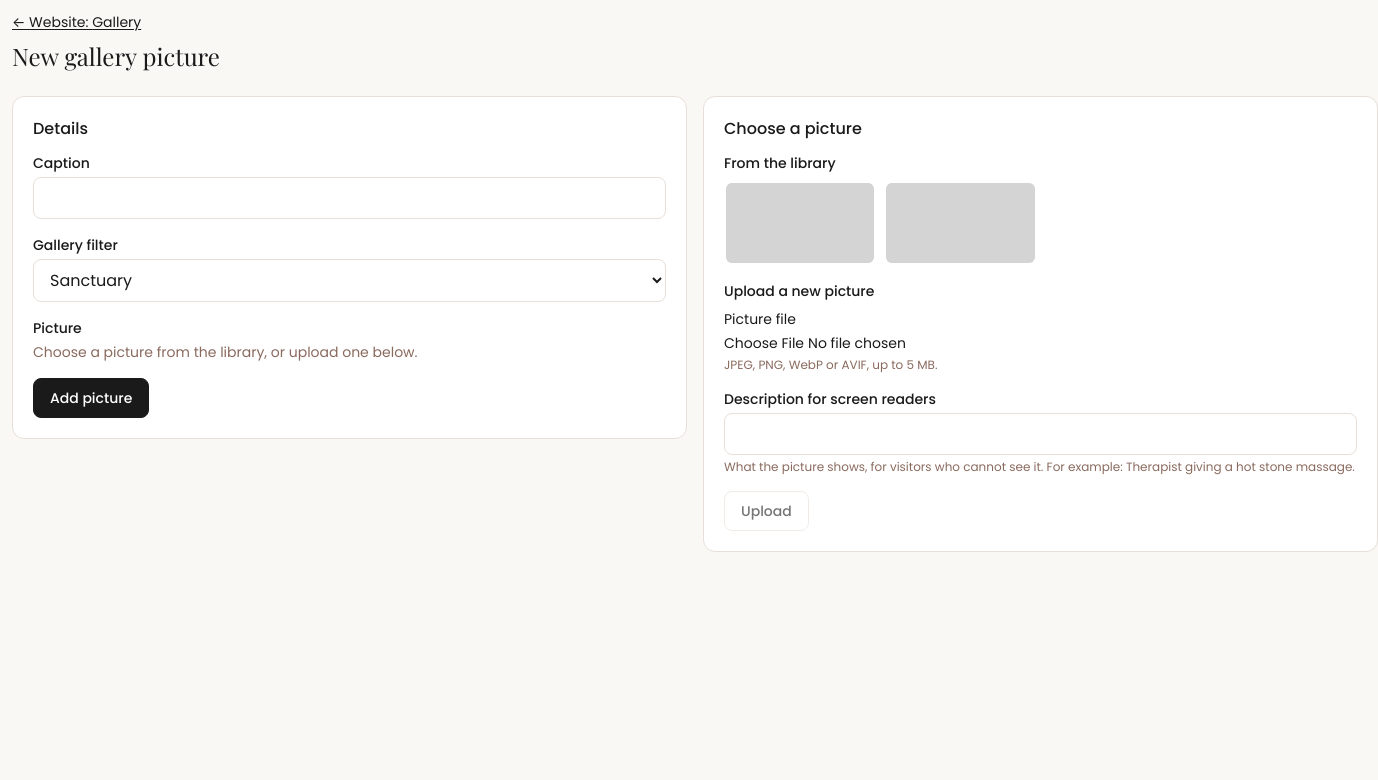
it: editors › gallery: a new item without a picture is not sent
The width and height of the screenshot is (1378, 780).
Type "New room" into the field labelled "Caption".
click(350, 198); type("New room")  # box [33,177,666,219]
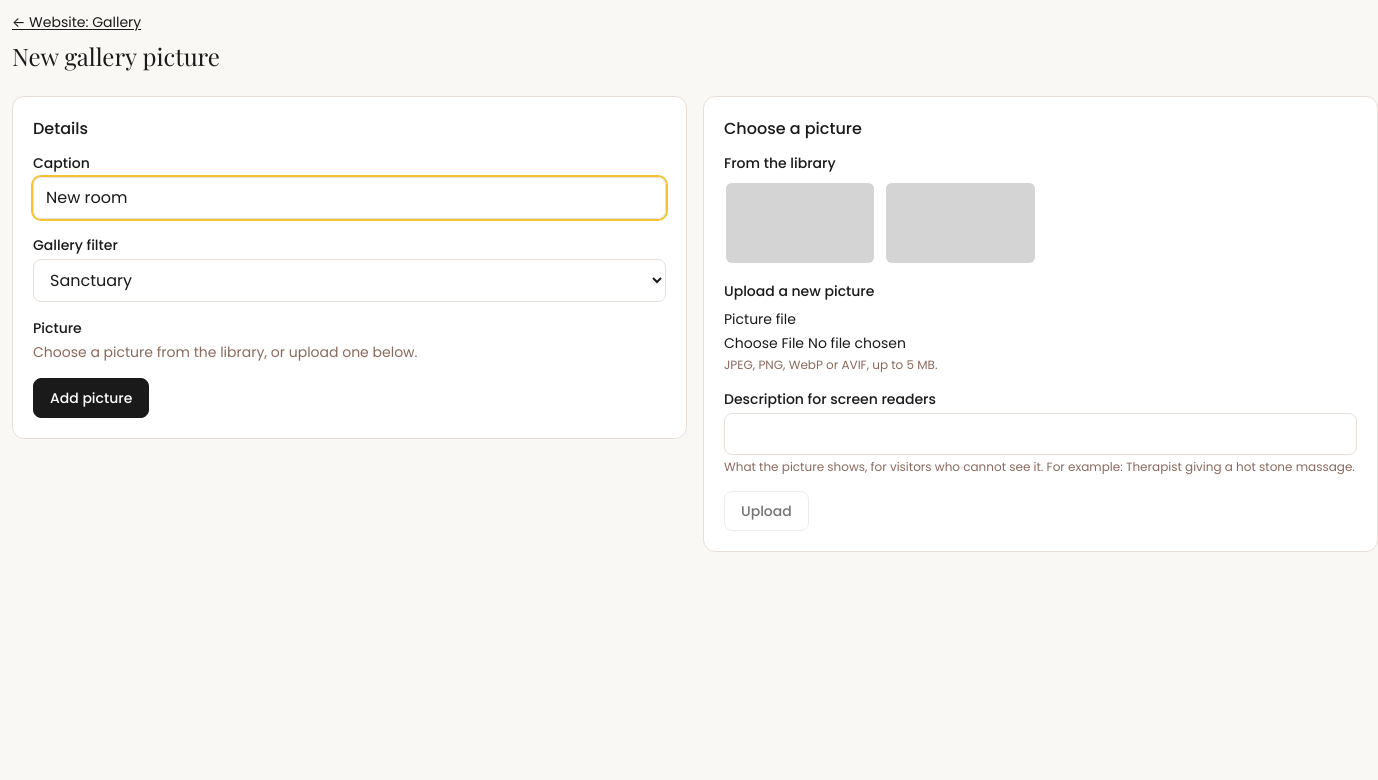
Click the button "Add picture".
click(91, 398)  # box [33,378,149,418]
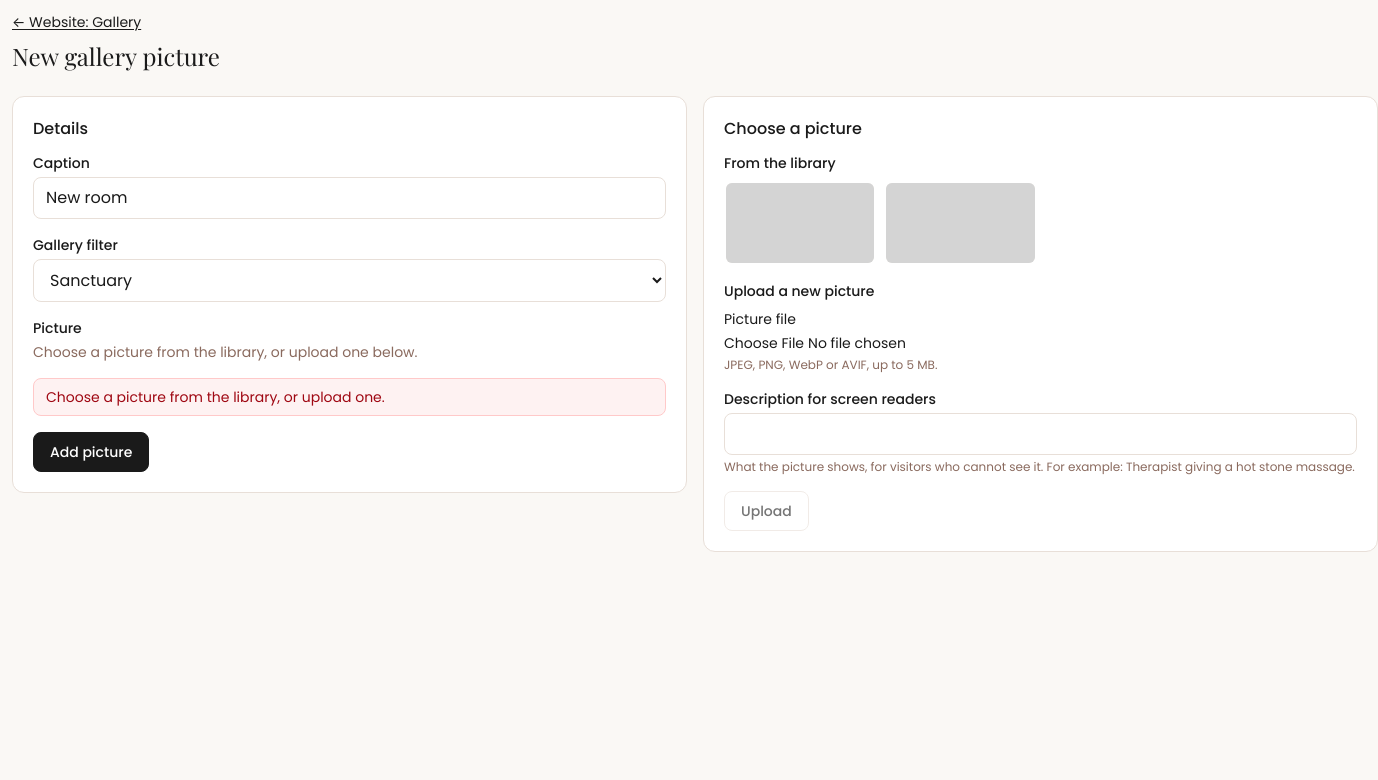
Result: the message shows "Choose a picture" at [46,387,385,407]
